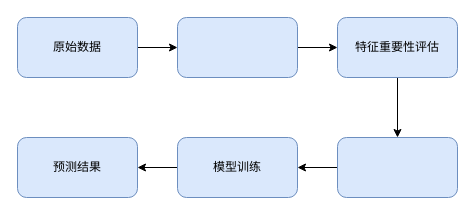
Some shapes in this 475 by 215 pixel diagram are drawn without their labels. The box of each missing label's shape, as (x1, y1, x2, y2) in pixels:
特征提取: (176, 16, 298, 78)
特征过滤: (336, 136, 458, 198)
